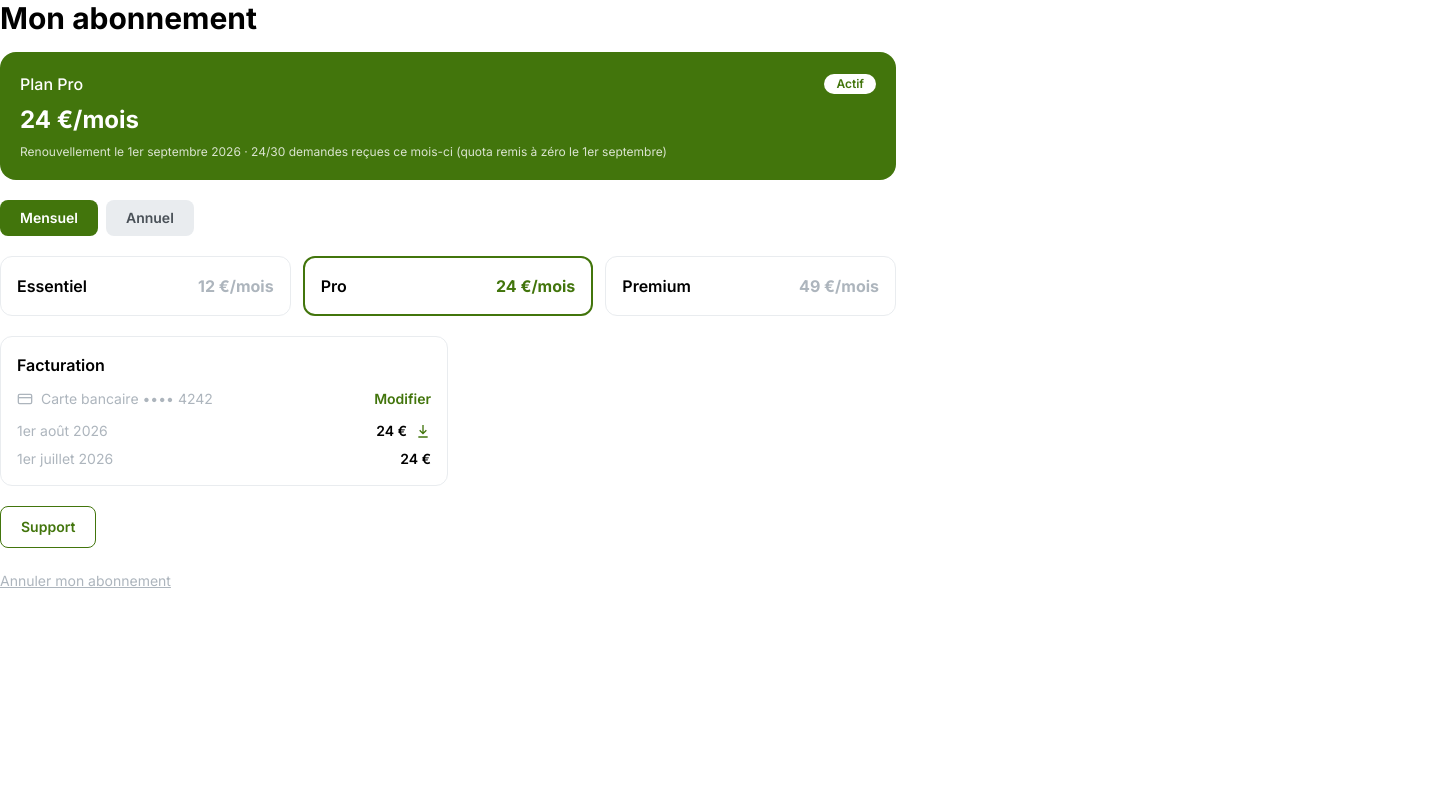
it: SubscriptionComponent › descendre d'offre prend effet à la prochaine échéance
Click the button "Essentiel 12 €/mois".
click(52, 286)  # box left=0, top=256, right=291, bottom=316
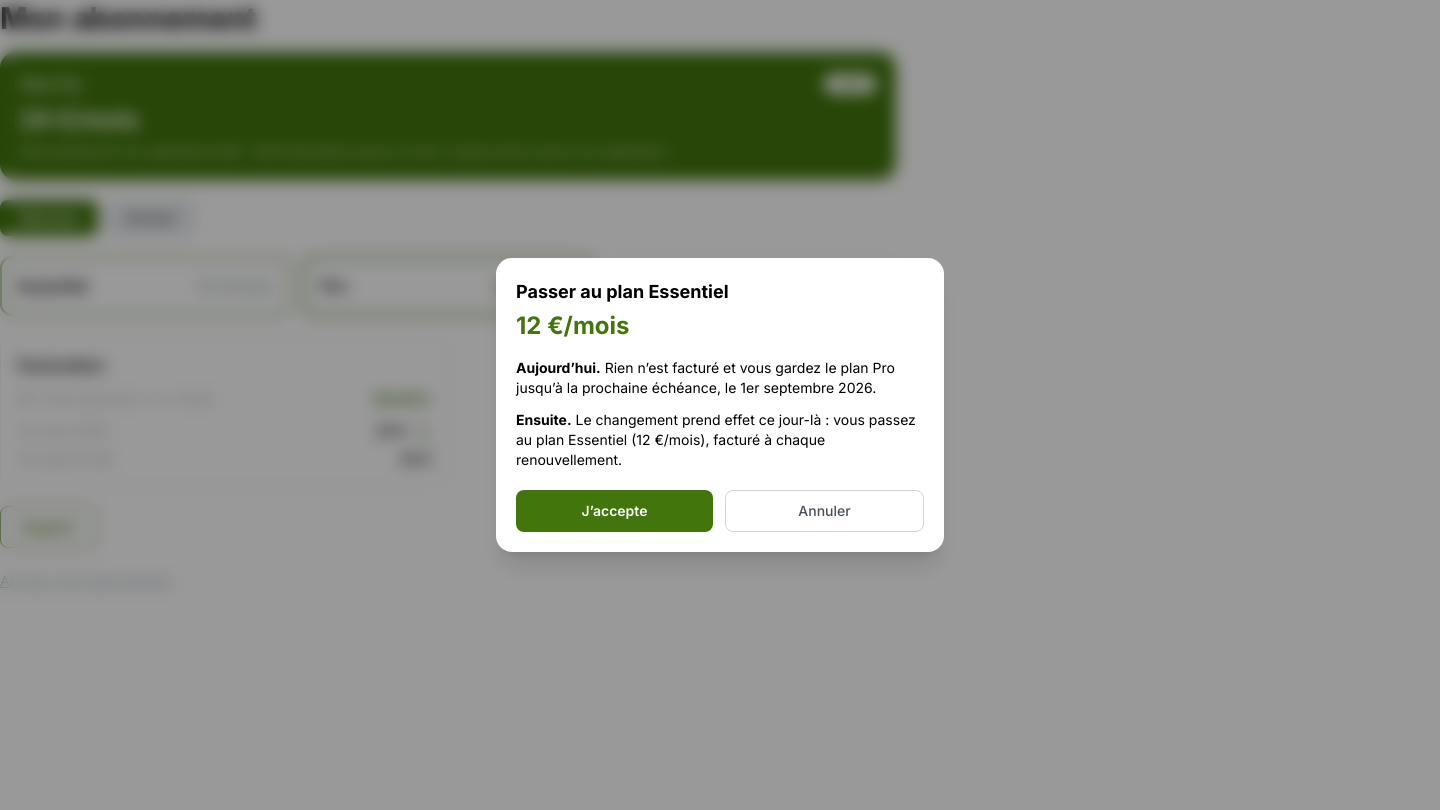
Result: the dialog shows "Rien n’est facturé et vous gardez le plan Pro jusqu’à la prochaine échéance, le 1er septembre 2026." at left=496, top=258, right=944, bottom=552
Result: the dialog shows "vous passez au plan Essentiel (12 €/mois), facturé à chaque renouvellement" at left=516, top=411, right=916, bottom=468
Click the button "J’accepte".
click(614, 511)  # box left=516, top=490, right=713, bottom=532
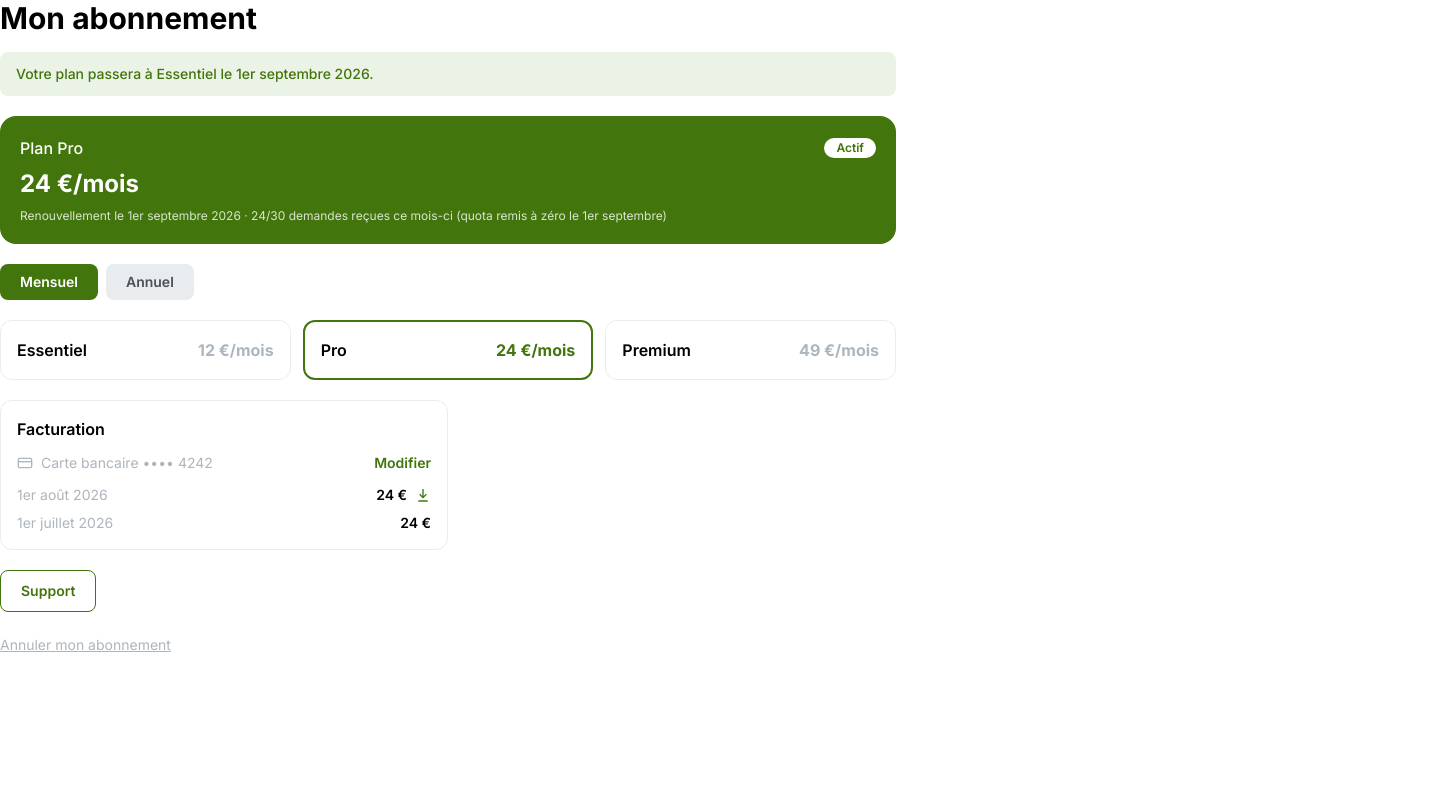
Result: the text "Votre plan passera à Essentiel le 1er septembre 2026." is shown at left=0, top=52, right=896, bottom=96
